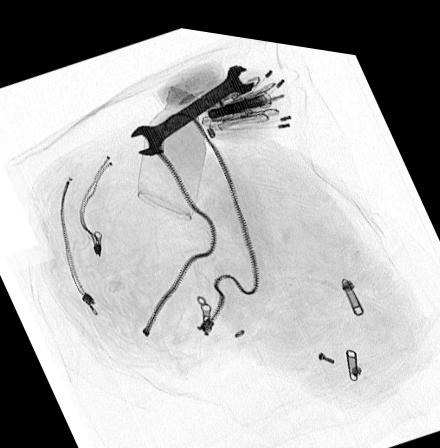Wrench: (128, 55, 255, 151)
